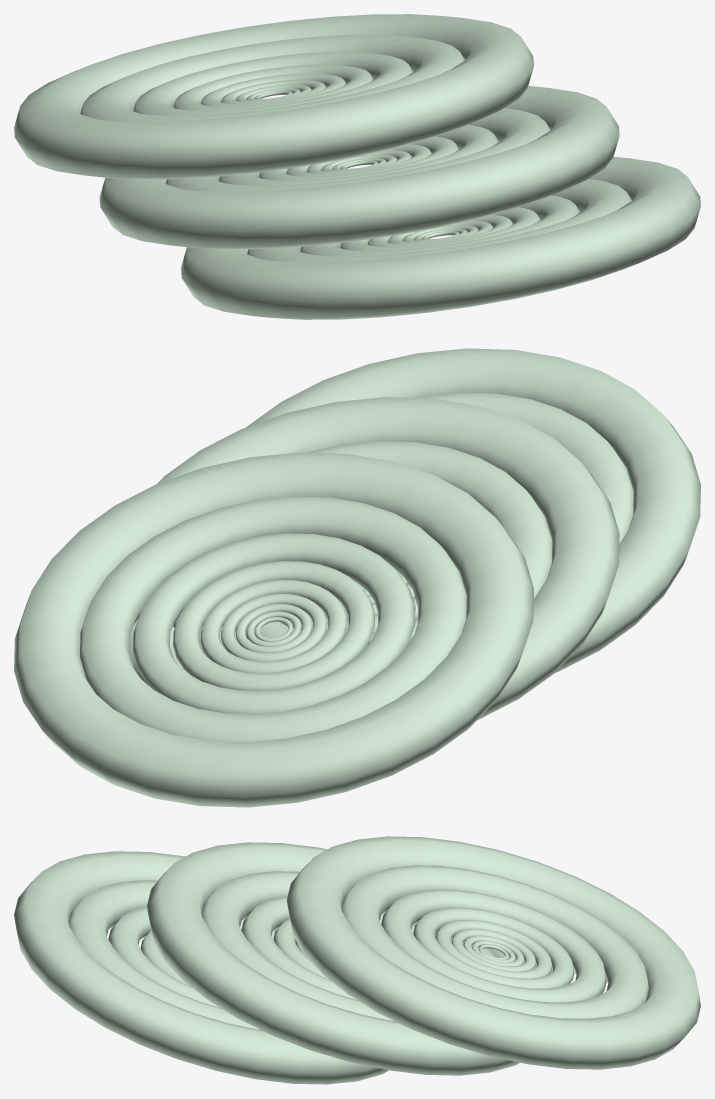
Rendered from onionchopped.glb.
3 renders of one model, top to bottom at view 1: azimuth 30°, elevation 25°; view 2: azimuth 150°, elevation 25°; view 3: azimuth 270°, elevation 25°, orthographic. The views are drawn at different scales.
Visible parts, largest first — view 1: Cylinder.018; view 2: Cylinder.018; view 3: Cylinder.018.
Part boxes in pixels (x1,y1,x2,y2): Cylinder.018: (14, 14, 700, 319); Cylinder.018: (14, 348, 700, 807); Cylinder.018: (14, 836, 700, 1084).
Size of the model in its own units: 0.1893 by 0.0723 by 0.3022.
